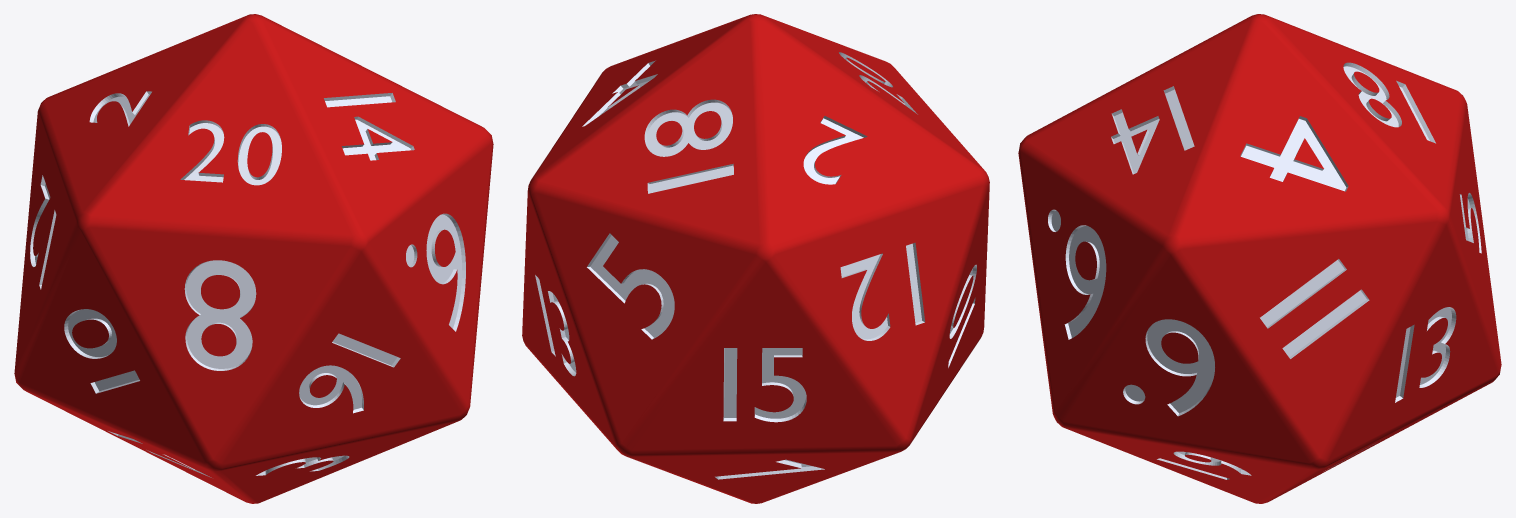
The model's file is Dice_Textured_RW.gltf.
3 renders of one model, left to right at view 1: azimuth 30°, elevation 25°; view 2: azimuth 150°, elevation 25°; view 3: azimuth 270°, elevation 25°, orthographic.
Visible parts, largest first — view 1: Icosphere; view 2: Icosphere; view 3: Icosphere.
Boxes of the visible parts, left/top/right/bottom form: Icosphere: left=14, top=14, right=493, bottom=503; Icosphere: left=522, top=14, right=989, bottom=503; Icosphere: left=1018, top=14, right=1501, bottom=503.
Size of the model in its own units: 8.5 by 9.71 by 8.73.
2 materials, 2 textured.
